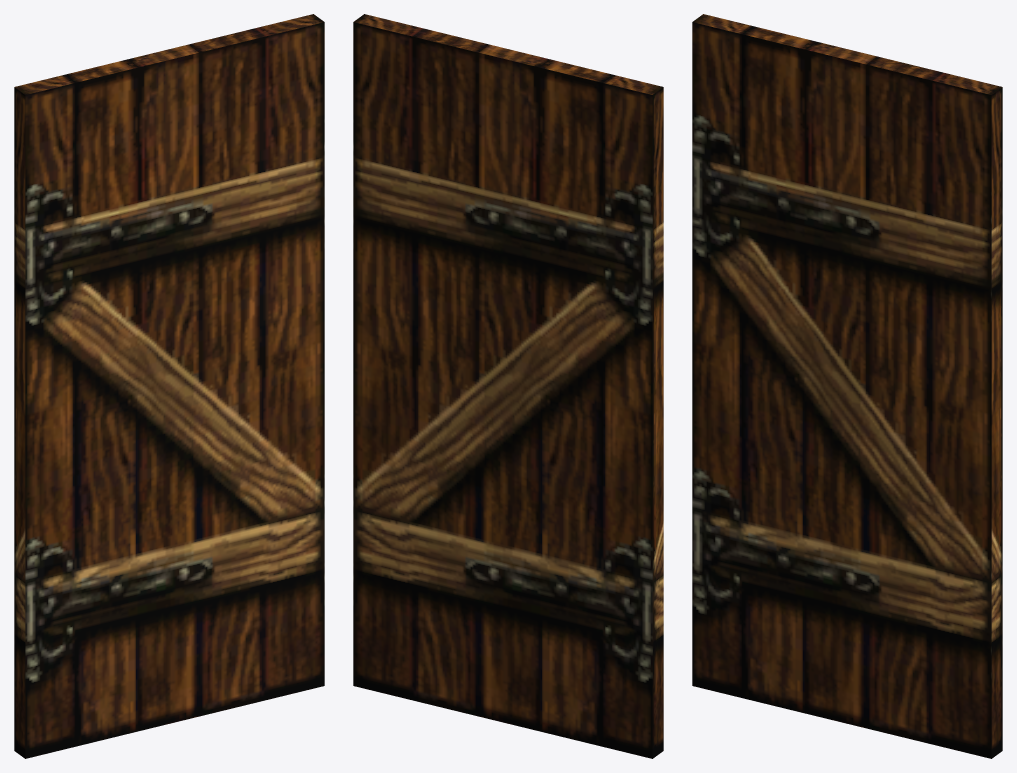
Rendered from INST_WH2_RT_DOOR_O_15.fbx.
3 renders of one model, left to right at view 1: azimuth 30°, elevation 25°; view 2: azimuth 150°, elevation 25°; view 3: azimuth 330°, elevation 25°, orthographic.
Parts seen in each view (by area): view 1: INST_WH2_RT_DOOR_O_15; view 2: INST_WH2_RT_DOOR_O_15; view 3: INST_WH2_RT_DOOR_O_15.
Part boxes in pixels (box(x1,y1,x2,y2)): INST_WH2_RT_DOOR_O_15: box(14, 14, 324, 758); INST_WH2_RT_DOOR_O_15: box(353, 14, 663, 758); INST_WH2_RT_DOOR_O_15: box(692, 14, 1002, 758).
Bounding box in the file's own units: 12626 × 26760 × 808.
Materials: 1 (1 with a texture image).
